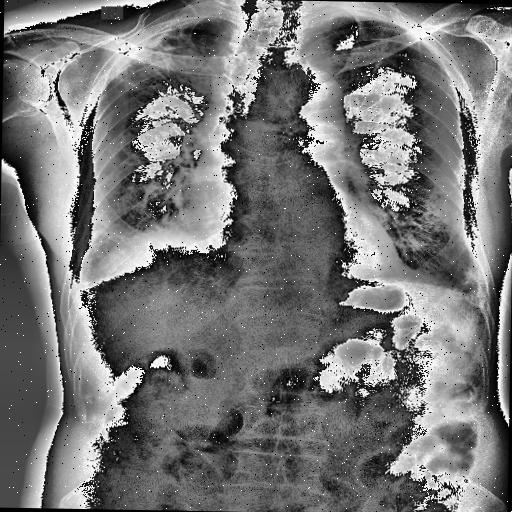0- Aortic enlargement: (268, 62, 346, 137), (264, 64, 348, 122), (291, 65, 345, 123)
11- Pleural thickening: (104, 18, 184, 80), (456, 181, 490, 320), (110, 23, 175, 73), (69, 206, 102, 303), (100, 28, 155, 84), (326, 10, 394, 25), (460, 270, 486, 308), (70, 276, 96, 304)
13- Pulmonary fibrosis: (113, 19, 214, 93), (126, 40, 204, 114), (115, 38, 195, 102), (90, 230, 175, 268), (146, 235, 175, 276), (360, 46, 390, 85), (449, 262, 476, 292)
5- ILD: (92, 93, 200, 228)
6- Infiltration: (84, 234, 124, 271), (460, 266, 487, 310)
9- Other lesion: (78, 220, 206, 277)
